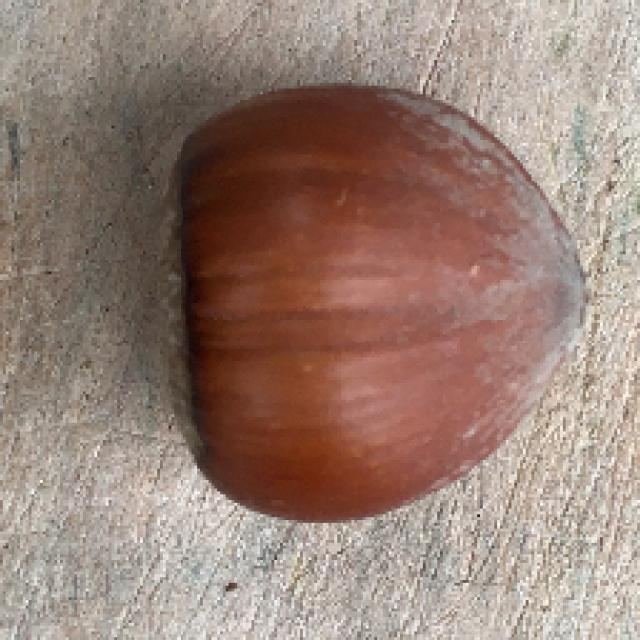qualityHazelnut: (149, 79, 595, 528)
